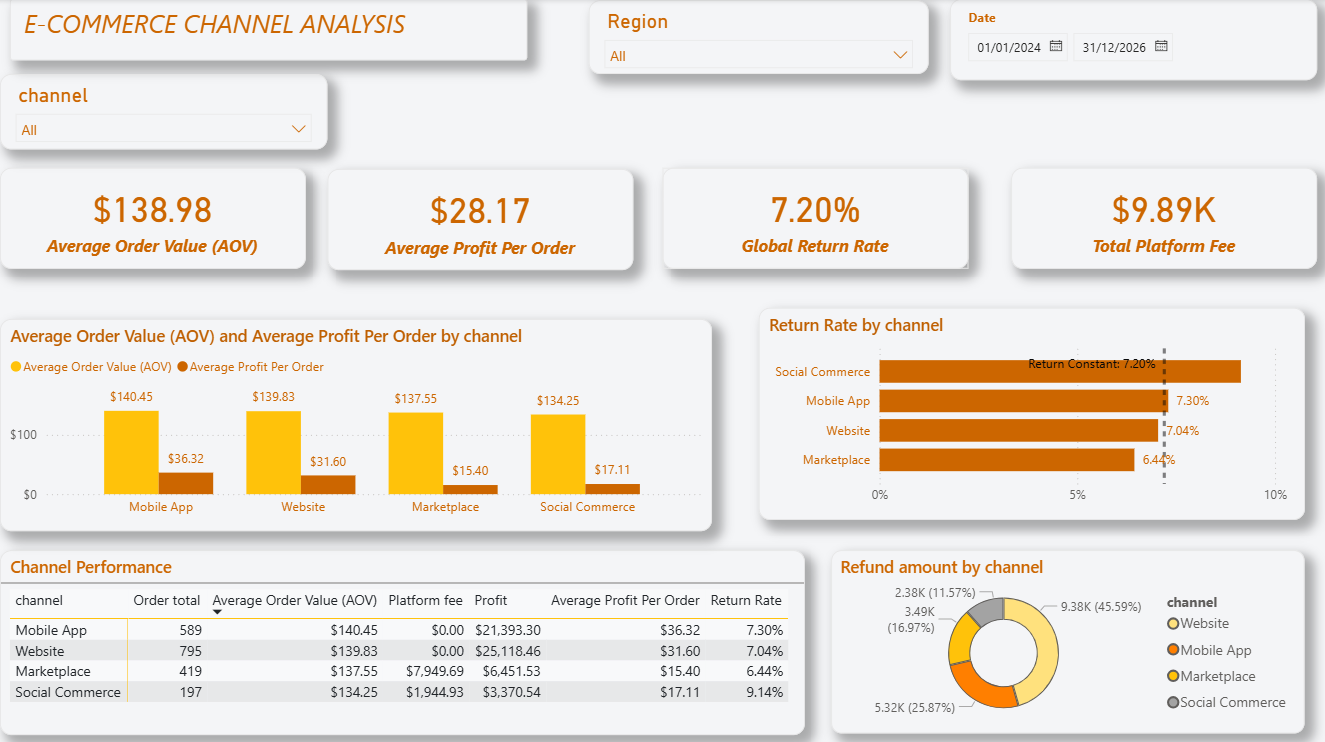

This screenshot's page, from the dashboard's own definition file:
{"tool":"powerbi","page":{"name":"Channel Dashboard","canvas":[1280,720],"ordinal":1},"visuals":[{"type":"textbox","box":[9.7,0,499.5,59.1],"z":0},{"type":"slicer","fields":{"Values":["fact_orders_table.region"]},"box":[568.1,1.4,328,71.4],"z":1000},{"type":"slicer","fields":{"Values":["dim_Calendar.Date"]},"box":[916.6,0,354,78.2],"z":2000},{"type":"slicer","fields":{"Values":["fact_orders_table.channel"]},"box":[0,72.7,315.6,72.7],"z":3000},{"type":"card","fields":{"Values":["_Measures.Average Order Value (AOV)"]},"box":[0,163.3,295,97.4],"z":4000},{"type":"card","fields":{"Values":["_Measures.Average Profit Per Order"]},"box":[315.6,164.7,295,97.4],"z":5000},{"type":"card","fields":{"Values":["_Measures.Return Rate"]},"box":[639.5,163.3,295,97.4],"z":6000},{"type":"card","fields":{"Values":["Sum(fact_orders_table.platform_fee)"]},"box":[975.6,163.3,295,97.4],"z":7000},{"type":"pivotTable","title":"Channel Performance","fields":{"Rows":["fact_orders_table.channel"],"Values":["CountNonNull(fact_orders_table.order_id)","_Measures.Average Order Value (AOV)","Sum(fact_orders_table.platform_fee)","Sum(fact_orders_table.profit)","_Measures.Average Profit Per Order","_Measures.Return Rate"]},"box":[0,532.4,776.7,178.4],"z":8000},{"type":"clusteredColumnChart","fields":{"Category":["fact_orders_table.channel"],"Y":["_Measures.Average Order Value (AOV)","_Measures.Average Profit Per Order"]},"box":[0,308.7,687.5,204.5],"z":9000},{"type":"clusteredBarChart","fields":{"Category":["fact_orders_table.channel"],"Y":["_Measures.Return Rate"]},"box":[732.8,297.8,526.9,204.5],"z":10000},{"type":"donutChart","fields":{"Category":["fact_orders_table.channel"],"Y":["Sum(fact_orders_table.refund_amount)"]},"box":[802.7,532.4,456.9,177],"z":11000}]}

Visuals, with their boxes in screenshot pixels (x1, y1, x2, y2), scaled from the page's 1280x720 canvas onto the 1325x742 screenshot:
textbox: detection(10, 0, 527, 61)
slicer - fact_orders_table.region: detection(588, 1, 928, 75)
slicer - dim_Calendar.Date: detection(949, 0, 1315, 81)
slicer - fact_orders_table.channel: detection(0, 75, 327, 150)
card - _Measures.Average Order Value (AOV): detection(0, 168, 305, 269)
card - _Measures.Average Profit Per Order: detection(327, 170, 632, 270)
card - _Measures.Return Rate: detection(662, 168, 967, 269)
card - Sum(fact_orders_table.platform_fee): detection(1010, 168, 1315, 269)
"Channel Performance" pivotTable: detection(0, 549, 804, 733)
clusteredColumnChart - fact_orders_table.channel x _Measures.Average Order Value (AOV): detection(0, 318, 712, 529)
clusteredBarChart - fact_orders_table.channel x _Measures.Return Rate: detection(759, 307, 1304, 518)
donutChart - fact_orders_table.channel x Sum(fact_orders_table.refund_amount): detection(831, 549, 1304, 731)
